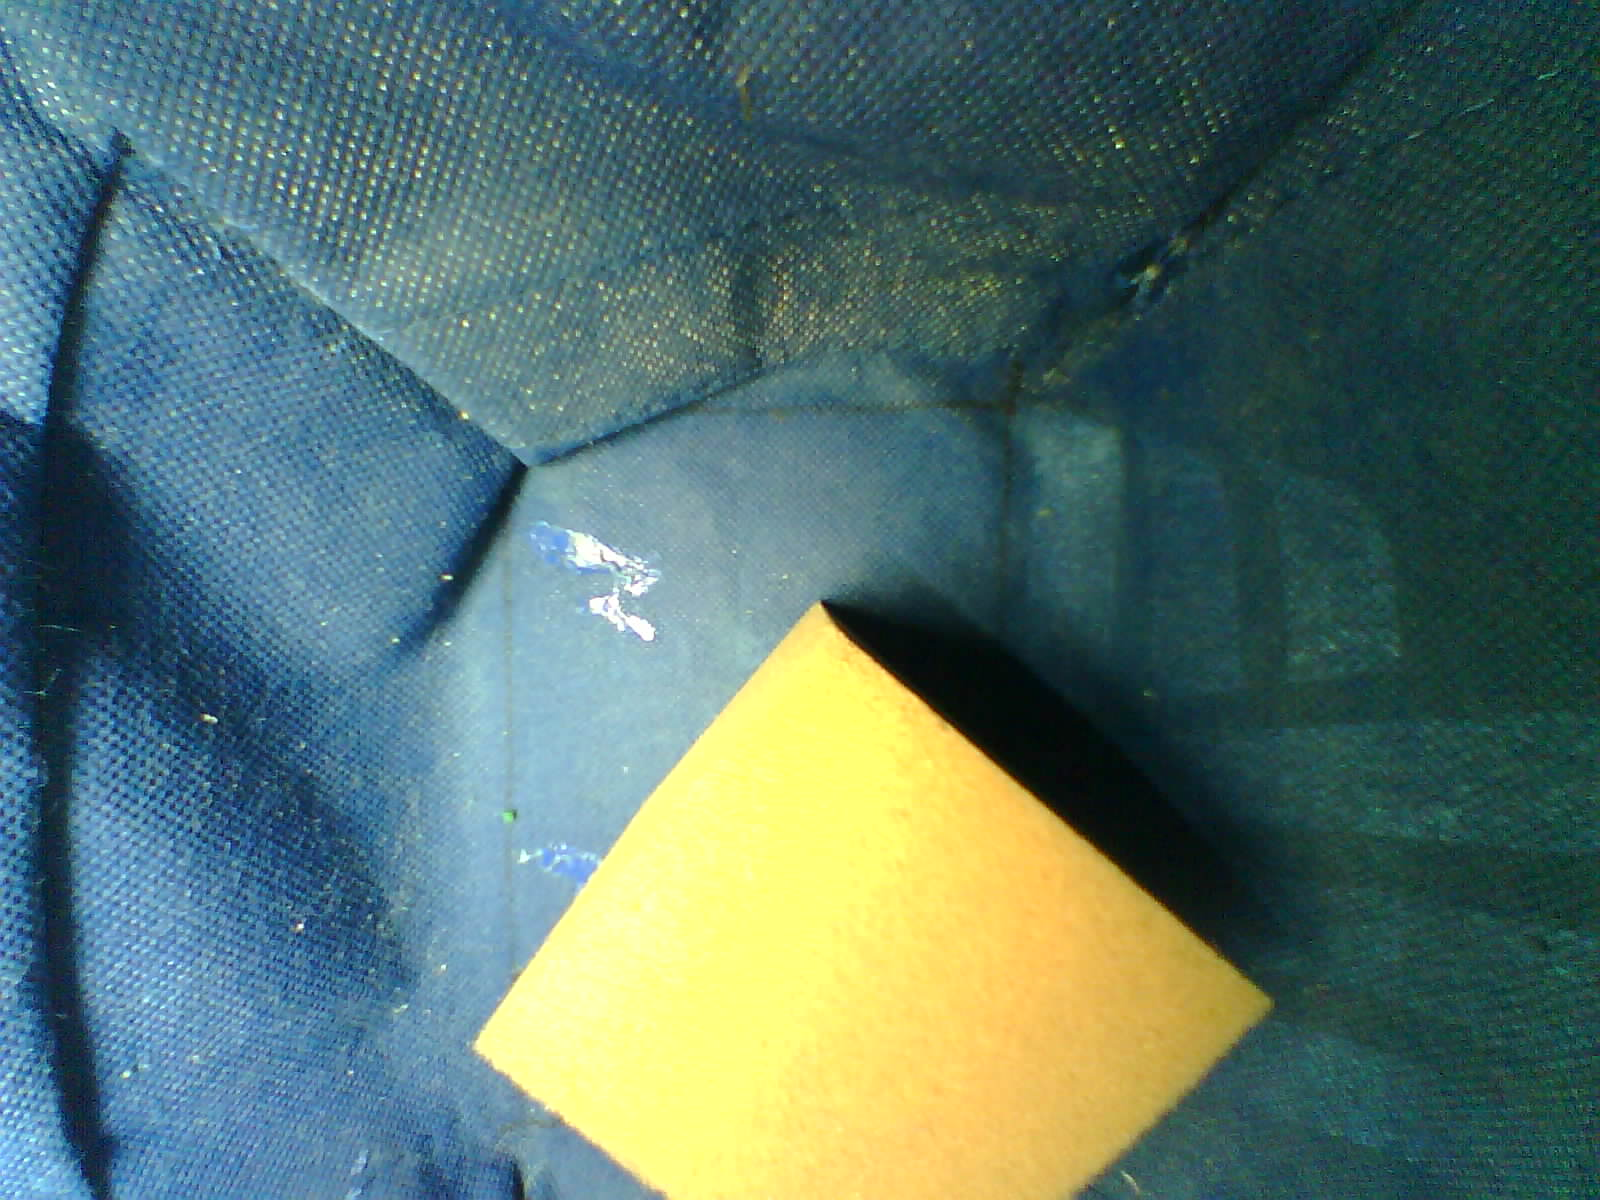cube-soft: (465, 589, 1303, 1200)
